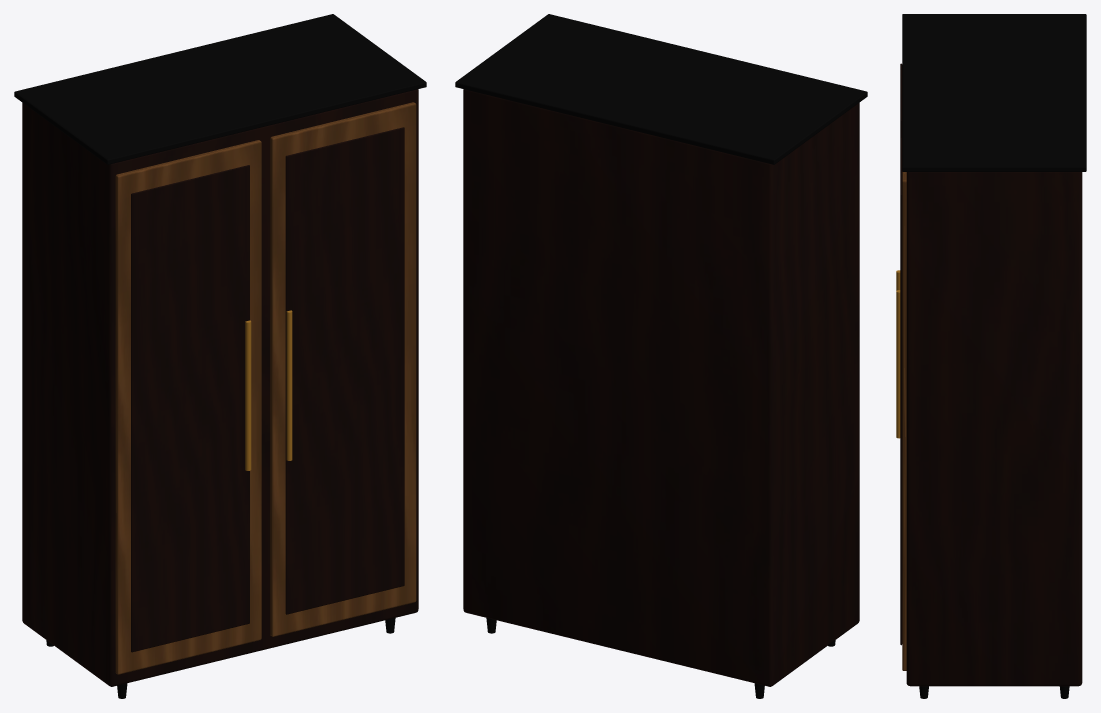
The model's file is razoredge-modern-wardrobe.glb.
3 views of the same model, side by side, from view 1: azimuth 30°, elevation 25°; view 2: azimuth 150°, elevation 25°; view 3: azimuth 270°, elevation 25° (orthographic).
Visible parts, largest first — view 1: body, door_panel.001, door_panel, top, door.001, door, handle, handle.001; view 2: body, top; view 3: body, top, door.001, door_panel.001, handle.001.
Part boxes in pixels (x1,y1,x2,y2): body: (22, 89, 418, 686); door_panel.001: (285, 127, 404, 614); door_panel: (131, 165, 249, 652); top: (14, 14, 426, 164); door.001: (270, 102, 416, 636); door: (115, 140, 261, 674); handle: (245, 320, 251, 470); handle.001: (286, 310, 292, 460); body: (463, 89, 859, 686); top: (455, 14, 867, 164); body: (906, 172, 1082, 686); top: (902, 14, 1086, 171); door.001: (902, 172, 906, 670); door_panel.001: (900, 137, 902, 645); handle.001: (896, 290, 900, 438).
Size of the model in its own units: 1.24 by 2.04 by 0.65.
Materials: 4 (3 with a texture image).
